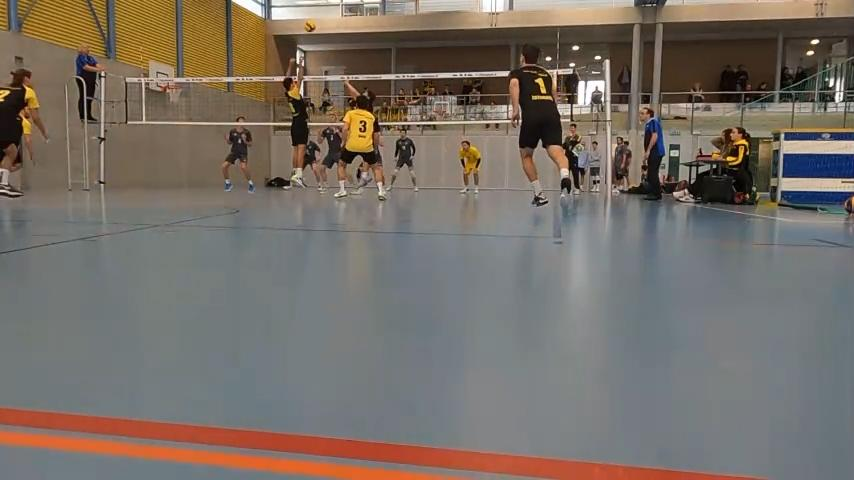Player: (509, 45, 571, 205), (0, 68, 48, 197), (335, 95, 385, 200), (282, 58, 308, 186), (221, 116, 254, 192), (388, 128, 417, 191), (318, 126, 342, 192), (562, 123, 583, 194), (10, 108, 33, 172), (459, 140, 481, 193), (303, 140, 321, 190), (353, 161, 373, 194)
ball: (303, 21, 317, 32)
